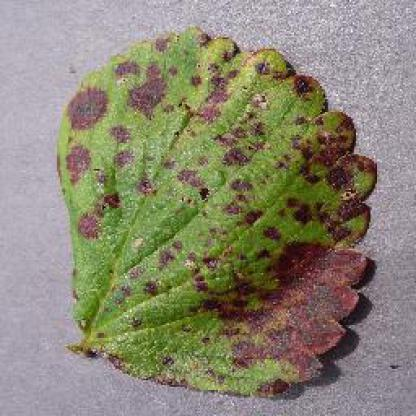leaf scorch: (51, 16, 386, 400)
